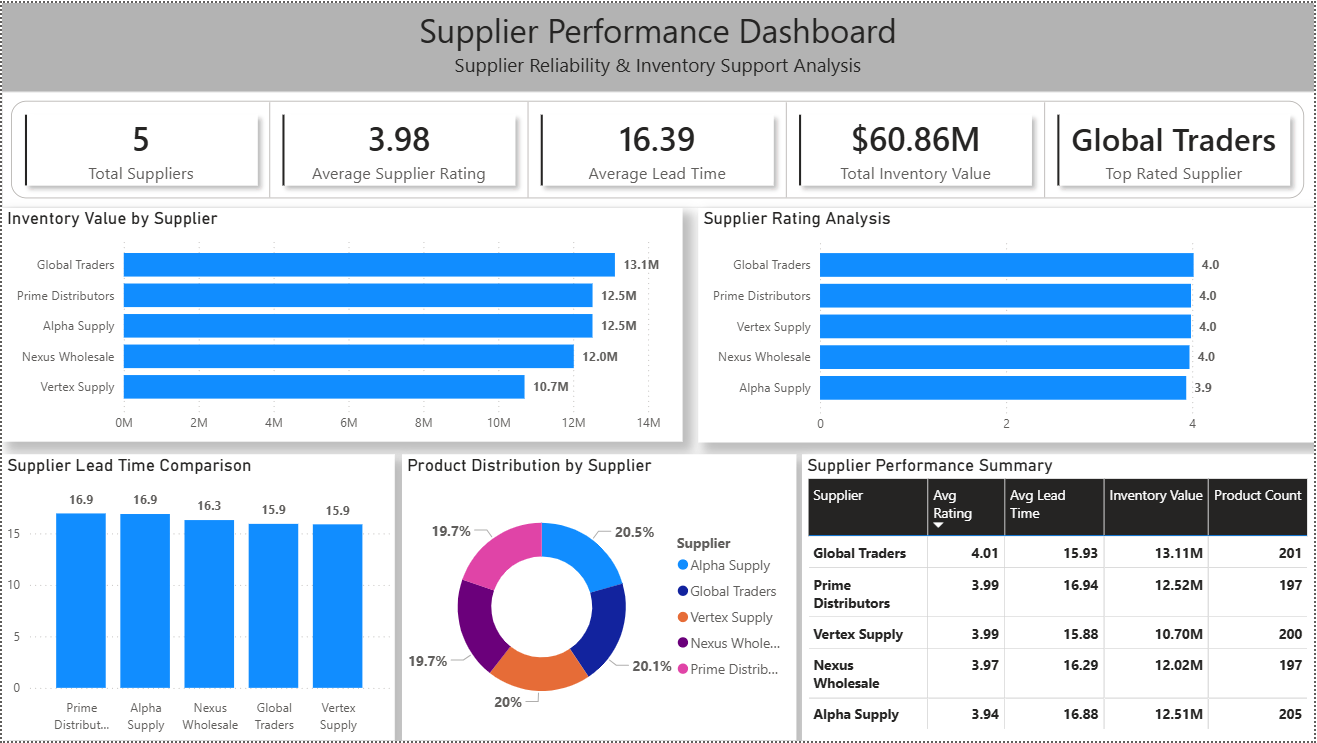

Layout of this report page (visuals, bound fields, positions):
{"tool":"powerbi","page":{"name":"Supplier Dashboard","canvas":[1280,720],"ordinal":2},"visuals":[{"type":"textbox","box":[0,0,1279.8,86.9],"z":0},{"type":"cardVisual","fields":{"Data":["Measure.Total Suppliers","Measure.Average Supplier Rating","Measure.Average Lead Time","Measure.Total Inventory Value","Measure.Best Rated Supplier"]},"box":[0,86,1280.2,114],"z":1000},{"type":"clusteredBarChart","title":"Inventory Value by Supplier","fields":{"Category":["Inventory_Data.Supplier"],"Y":["Sum(Inventory_Data.Inventory Value)"]},"box":[0,200,664,227.9],"z":2000},{"type":"clusteredBarChart","title":"Supplier Rating Analysis","fields":{"Category":["Inventory_Data.Supplier"],"Y":["Measure.Average Supplier Rating"]},"box":[679.1,200,602.3,229.1],"z":3000},{"type":"clusteredColumnChart","title":"Supplier Lead Time Comparison","fields":{"Category":["Inventory_Data.Supplier"],"Y":["Measure.Average Lead Time"]},"box":[0,440.3,383.6,279.1],"z":4000},{"type":"donutChart","title":"Product Distribution by Supplier","fields":{"Category":["Inventory_Data.Supplier"],"Y":["CountNonNull(Inventory_Data.Product ID)"]},"box":[390,440.3,385.1,279.1],"z":5000},{"type":"tableEx","title":"Supplier Performance Summary","fields":{"Values":["Inventory_Data.Supplier","Measure.Average Supplier Rating","Measure.Average Lead Time","Measure.Total Inventory Value","Measure.Total Products"]},"box":[780.6,440.3,500,279],"z":6000}]}

Visuals, with their boxes in screenshot pixels (x1, y1, x2, y2), scaled from the page's 1280x720 canvas onto the 1317x743 screenshot:
textbox: BBox(0, 0, 1316, 90)
cardVisual - Measure.Total Suppliers x Measure.Average Supplier Rating: BBox(0, 89, 1316, 206)
"Inventory Value by Supplier" clusteredBarChart: BBox(0, 206, 683, 442)
"Supplier Rating Analysis" clusteredBarChart: BBox(699, 206, 1316, 443)
"Supplier Lead Time Comparison" clusteredColumnChart: BBox(0, 454, 395, 742)
"Product Distribution by Supplier" donutChart: BBox(401, 454, 798, 742)
"Supplier Performance Summary" tableEx: BBox(803, 454, 1316, 742)
